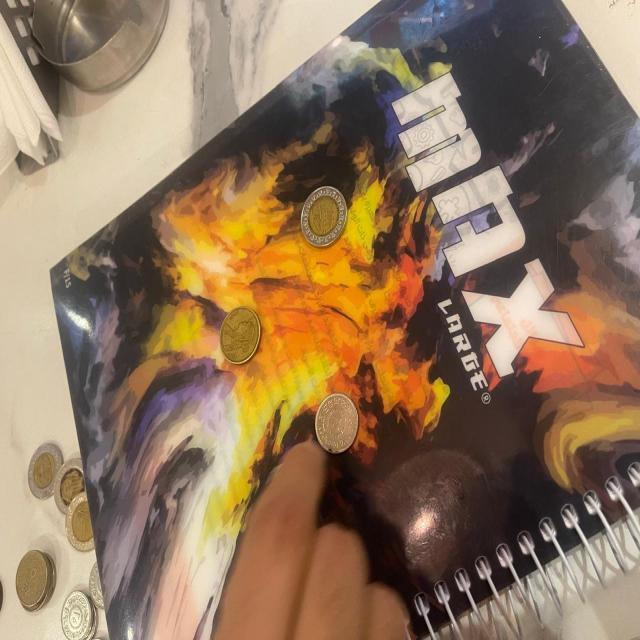Half Pound: (216, 296, 268, 366), (19, 549, 54, 612)
One Pound: (293, 180, 355, 258), (50, 458, 91, 509), (67, 495, 107, 547), (30, 443, 65, 500)
quarter pound: (314, 396, 364, 461), (60, 587, 94, 640)
